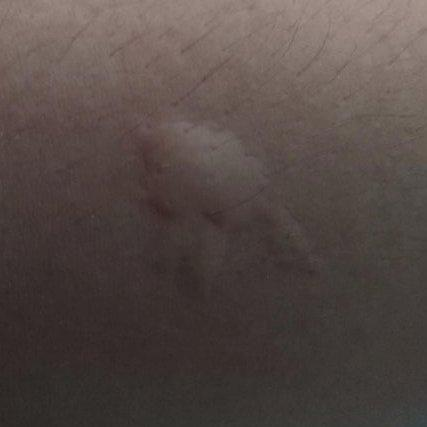Reupload: (129, 96, 307, 296)
